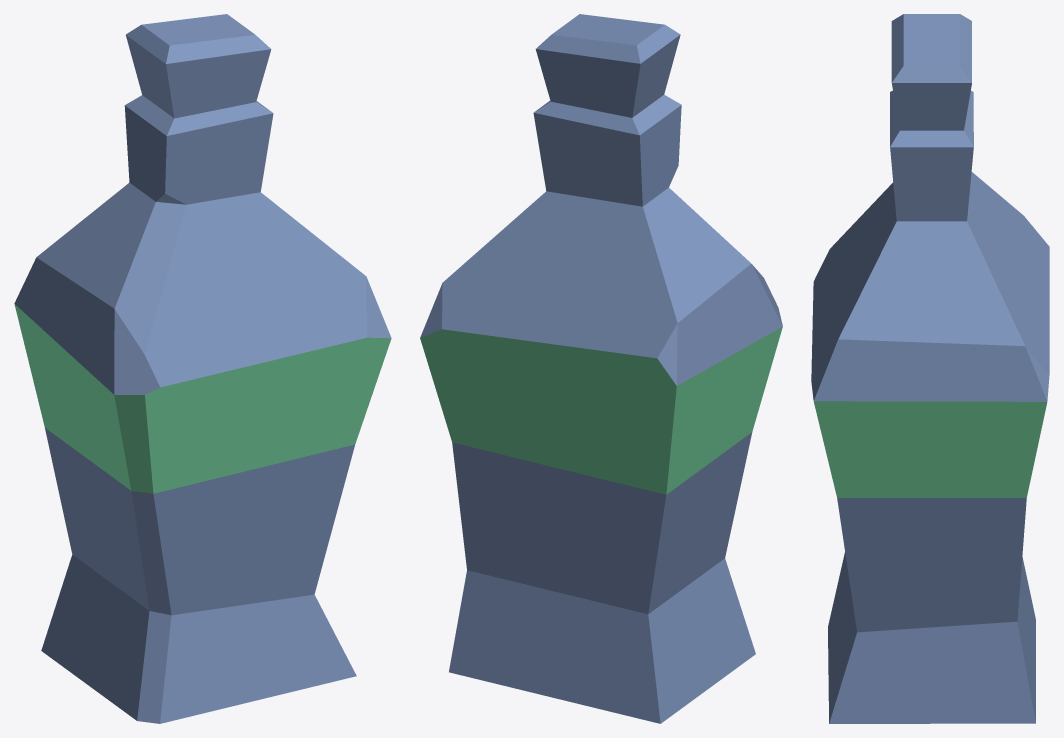
Rendered from Margerita.fbx.
3 renders of one model, left to right at view 1: azimuth 30°, elevation 25°; view 2: azimuth 150°, elevation 25°; view 3: azimuth 270°, elevation 25°, orthographic.
Parts seen in each view (by area): view 1: Cube.005; view 2: Cube.005; view 3: Cube.005.
Part boxes in pixels (bbox=[...]): Cube.005: bbox=[14, 14, 391, 723]; Cube.005: bbox=[420, 14, 782, 723]; Cube.005: bbox=[811, 14, 1049, 723].
Size of the model in its own units: 106 by 246 by 83.53.
